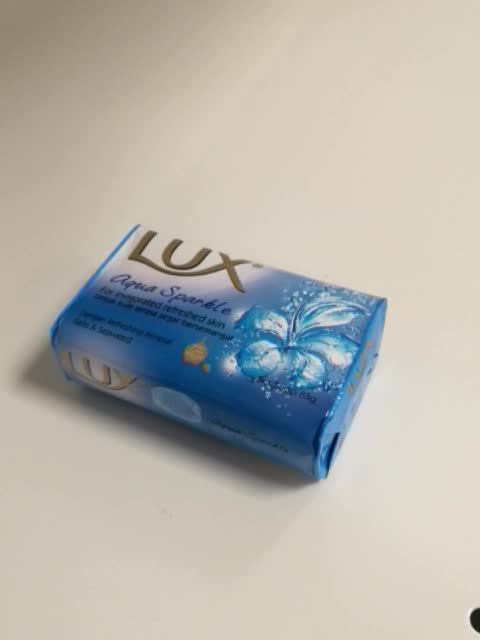soap: (47, 221, 389, 485)
